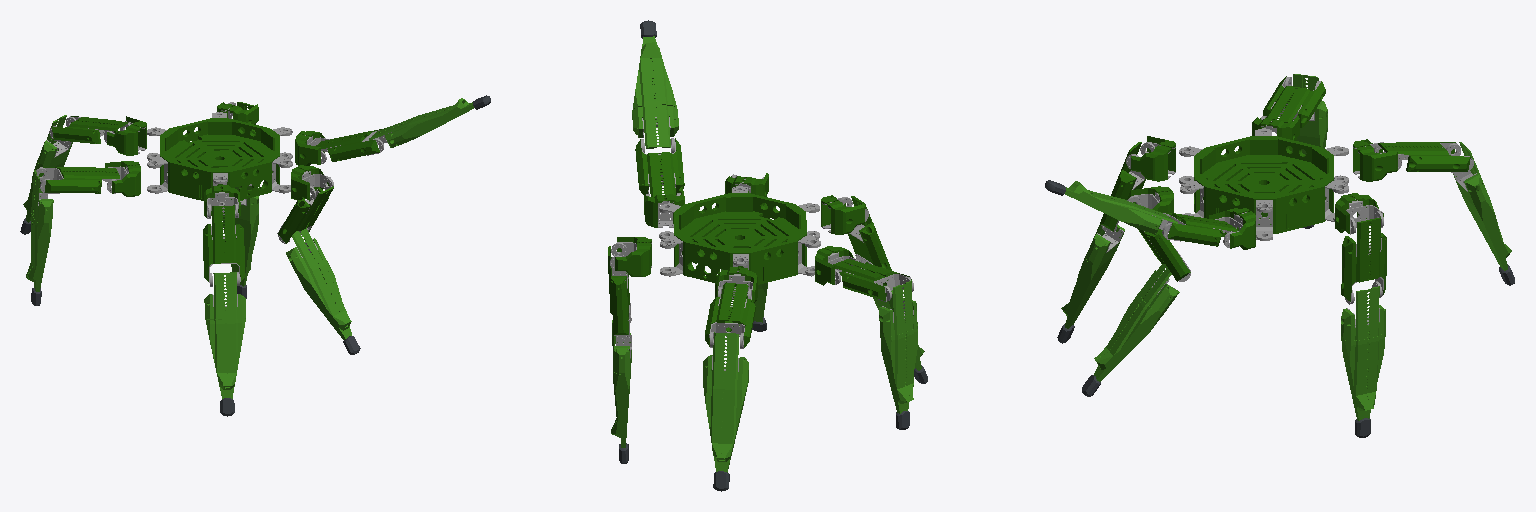
--- Render facts (derived) ---
Views: 3 orthographic renders of the robot side by side, from view 1: azimuth 30°, elevation 25°; view 2: azimuth 150°, elevation 25°; view 3: azimuth 270°, elevation 25°.
Robot: [local-path]\OneDrive\Desktop\ros\hexapod — 1 links, 0 joints (none); root link body; default pose: every joint at zero.
Links seen in each view (by area): view 1: body; view 2: body; view 3: body.
Link boxes in pixels (<box>): body: <box>20,95,490,416</box>; body: <box>608,20,927,491</box>; body: <box>1045,74,1514,437</box>.
Size in the robot's own frame: 0.8541 by 0.8418 by 0.6299 metres.
109 mesh visuals loaded from 11 distinct referenced files (10 binary STL); not drawn: 18 (reference not matched to a file when rendering).

URDF robot description ([local-path]\OneDrive\Desktop\ros\hexapod):
<?xml version="1.0" ?>
<!-- Generated using onshape-to-robot -->
<!-- Onshape https://cad.onshape.com/documents/026f9a33ba6a25a983a9d639/w/b83e0182bd0a887a03df3198/e/e49783848224d44e064e4a49 -->
<robot name="[local-path]\OneDrive\Desktop\ros\hexapod">
  <!-- Link body -->
  <link name="body">
    <inertial>
      <origin xyz="-0.00661516 -0.0927086 -0.111925" rpy="0 0 0"/>
      <mass value="9.75047"/>
      <inertia ixx="0.451212" ixy="0.0953495" ixz="-0.0258765" iyy="0.439416" iyz="0.00598595" izz="0.720981"/>
    </inertial>
    <!-- Part body -->
    <visual>
      <origin xyz="0.00533339 -0.0820554 -0.0654202" rpy="-8.67362e-19 1.39054e-18 0.00638268"/>
      <geometry>
        <mesh filename="package://meshes\body.stl"/>
      </geometry>
      <material name="body_material">
        <color rgba="0.196078 0.439216 0.0784314 1"/>
      </material>
    </visual>
    <collision>
      <origin xyz="0.00533339 -0.0820554 -0.0654202" rpy="-8.67362e-19 1.39054e-18 0.00638268"/>
      <geometry>
        <mesh filename="package://meshes\body.stl"/>
      </geometry>
    </collision>
    <!-- Part weight_beam -->
    <visual>
      <origin xyz="0.312149 -0.297368 0.0109092" rpy="2.09893 3.07747e-15 -2.54303"/>
      <geometry>
        <mesh filename="package://meshes\weight_beam.stl"/>
      </geometry>
      <material name="weight_beam_material">
        <color rgba="0.917647 0.917647 0.917647 1"/>
      </material>
    </visual>
    <collision>
      <origin xyz="0.312149 -0.297368 0.0109092" rpy="2.09893 3.07747e-15 -2.54303"/>
      <geometry>
        <mesh filename="package://meshes\weight_beam.stl"/>
      </geometry>
    </collision>
    <!-- Part hip -->
    <visual>
      <origin xyz="0.195519 -0.128552 -0.0388035" rpy="-4.01447e-15 3.05508e-15 2.16936"/>
      <geometry>
        <mesh filename="package://meshes\hip.stl"/>
      </geometry>
      <material name="hip_material">
        <color rgba="0.196078 0.439216 0.0784314 1"/>
      </material>
    </visual>
    <collision>
      <origin xyz="0.195519 -0.128552 -0.0388035" rpy="-4.01447e-15 3.05508e-15 2.16936"/>
      <geometry>
        <mesh filename="package://meshes\hip.stl"/>
      </geometry>
    </collision>
    <!-- Part rubber_foot -->
    <visual>
      <origin xyz="0.311905 -0.297011 0.0106572" rpy="-2.09893 -3.90449e-15 0.598559"/>
      <geometry>
        <mesh filename="package://meshes\rubber_foot.stl"/>
      </geometry>
      <material name="rubber_foot_material">
        <color rgba="0.262745 0.282353 0.301961 1"/>
      </material>
    </visual>
    <collision>
      <origin xyz="0.311905 -0.297011 0.0106572" rpy="-2.09893 -3.90449e-15 0.598559"/>
      <geometry>
        <mesh filename="package://meshes\rubber_foot.stl"/>
      </geometry>
    </collision>
    <!-- Part lower_foot -->
    <visual>
      <origin xyz="0.312149 -0.297368 0.0109092" rpy="-2.09893 -3.92188e-15 0.598559"/>
      <geometry>
        <mesh filename="package://meshes\lower_foot.stl"/>
      </geometry>
      <material name="lower_foot_material">
        <color rgba="0.282353 0.54902 0.160784 1"/>
      </material>
    </visual>
    <collision>
      <origin xyz="0.312149 -0.297368 0.0109092" rpy="-2.09893 -3.92188e-15 0.598559"/>
      <geometry>
        <mesh filename="package://meshes\lower_foot.stl"/>
      </geometry>
    </collision>
    <!-- Part upper_foot -->
    <visual>
      <origin xyz="0.312291 -0.297576 0.0104773" rpy="-2.09893 -3.79241e-15 0.598559"/>
      <geometry>
        <mesh filename="package://meshes\upper_foot.stl"/>
      </geometry>
      <material name="upper_foot_material">
        <color rgba="0.282353 0.54902 0.160784 1"/>
      </material>
    </visual>
    <collision>
      <origin xyz="0.312291 -0.297576 0.0104773" rpy="-2.09893 -3.79241e-15 0.598559"/>
      <geometry>
        <mesh filename="package://meshes\upper_foot.stl"/>
      </geometry>
    </collision>
    <!-- Part tie -->
    <visual>
      <origin xyz="0.230092 -0.178148 -0.0543943" rpy="1.1826 -4.18187e-15 0.598559"/>
      <geometry>
        <mesh filename="package://meshes\tie.stl"/>
      </geometry>
      <material name="tie_material">
        <color rgba="0.196078 0.439216 0.0784314 1"/>
      </material>
    </visual>
    <collision>
      <origin xyz="0.230092 -0.178148 -0.0543943" rpy="1.1826 -4.18187e-15 0.598559"/>
      <geometry>
        <mesh filename="package://meshes\tie.stl"/>
      </geometry>
    </collision>
    <!-- Part weight_beam_2 -->
    <visual>
      <origin xyz="-0.379269 -0.0109502 -0.0947067" rpy="0.0611214 3.67164e-16 1.25779"/>
      <geometry>
        <mesh filename="package://meshes\weight_beam.stl"/>
      </geometry>
      <material name="weight_beam_2_material">
        <color rgba="0.917647 0.917647 0.917647 1"/>
      </material>
    </visual>
    <collision>
      <origin xyz="-0.379269 -0.0109502 -0.0947067" rpy="0.0611214 3.67164e-16 1.25779"/>
      <geometry>
        <mesh filename="package://meshes\weight_beam.stl"/>
      </geometry>
    </collision>
    <!-- Part hip_2 -->
    <visual>
      <origin xyz="-0.20716 -0.0653569 -0.0388035" rpy="3.78236e-16 -1.73289e-15 -0.313011"/>
      <geometry>
        <mesh filename="package://meshes\hip.stl"/>
      </geometry>
      <material name="hip_2_material">
        <color rgba="0.196078 0.439216 0.0784314 1"/>
      </material>
    </visual>
    <collision>
      <origin xyz="-0.20716 -0.0653569 -0.0388035" rpy="3.78236e-16 -1.73289e-15 -0.313011"/>
      <geometry>
        <mesh filename="package://meshes\hip.stl"/>
      </geometry>
    </collision>
    <!-- Part rubber_foot_2 -->
    <visual>
      <origin xyz="-0.37924 -0.0109596 -0.0942076" rpy="-0.0611214 -7.98869e-16 -1.88381"/>
      <geometry>
        <mesh filename="package://meshes\rubber_foot.stl"/>
      </geometry>
      <material name="rubber_foot_2_material">
        <color rgba="0.262745 0.282353 0.301961 1"/>
      </material>
    </visual>
    <collision>
      <origin xyz="-0.37924 -0.0109596 -0.0942076" rpy="-0.0611214 -7.98869e-16 -1.88381"/>
      <geometry>
        <mesh filename="package://meshes\rubber_foot.stl"/>
      </geometry>
    </collision>
    <!-- Part lower_foot_2 -->
    <visual>
      <origin xyz="-0.379269 -0.0109502 -0.0947067" rpy="-0.0611214 -3.18593e-16 -1.88381"/>
      <geometry>
        <mesh filename="package://meshes\lower_foot.stl"/>
      </geometry>
      <material name="lower_foot_2_material">
        <color rgba="0.282353 0.54902 0.160784 1"/>
      </material>
    </visual>
    <collision>
      <origin xyz="-0.379269 -0.0109502 -0.0947067" rpy="-0.0611214 -3.18593e-16 -1.88381"/>
      <geometry>
        <mesh filename="package://meshes\lower_foot.stl"/>
      </geometry>
    </collision>
    <!-- Part upper_foot_2 -->
    <visual>
      <origin xyz="-0.378794 -0.0111038 -0.0947373" rpy="-0.0611214 -1.21332e-15 -1.88381"/>
      <geometry>
        <mesh filename="package://meshes\upper_foot.stl"/>
      </geometry>
      <material name="upper_foot_2_material">
        <color rgba="0.282353 0.54902 0.160784 1"/>
      </material>
    </visual>
    <collision>
      <origin xyz="-0.378794 -0.0111038 -0.0947373" rpy="-0.0611214 -1.21332e-15 -1.88381"/>
      <geometry>
        <mesh filename="package://meshes\upper_foot.stl"/>
      </geometry>
    </collision>
    <!-- Part tie_2 -->
    <visual>
      <origin xyz="-0.266654 -0.0467498 -0.0617749" rpy="1.46044 1.81976e-16 -1.88381"/>
      <geometry>
        <mesh filename="package://meshes\tie.stl"/>
      </geometry>
      <material name="tie_2_material">
        <color rgba="0.196078 0.439216 0.0784314 1"/>
      </material>
    </visual>
    <collision>
      <origin xyz="-0.266654 -0.0467498 -0.0617749" rpy="1.46044 1.81976e-16 -1.88381"/>
      <geometry>
        <mesh filename="package://meshes\tie.stl"/>
      </geometry>
    </collision>
    <!-- Part weight_beam_3 -->
    <visual>
      <origin xyz="-0.174501 0.281658 -0.133669" rpy="0.354802 -9.98125e-16 0.409318"/>
      <geometry>
        <mesh filename="package://meshes\weight_beam.stl"/>
      </geometry>
      <material name="weight_beam_3_material">
        <color rgba="0.917647 0.917647 0.917647 1"/>
      </material>
    </visual>
    <collision>
      <origin xyz="-0.174501 0.281658 -0.133669" rpy="0.354802 -9.98125e-16 0.409318"/>
      <geometry>
        <mesh filename="package://meshes\weight_beam.stl"/>
      </geometry>
    </collision>
    <!-- Part hip_3 -->
    <visual>
      <origin xyz="-0.0973166 0.106839 -0.0388035" rpy="-2.5368e-16 5.69282e-16 -1.16148"/>
      <geometry>
        <mesh filename="package://meshes\hip.stl"/>
      </geometry>
      <material name="hip_3_material">
        <color rgba="0.196078 0.439216 0.0784314 1"/>
      </material>
    </visual>
    <collision>
      <origin xyz="-0.0973166 0.106839 -0.0388035" rpy="-2.5368e-16 5.69282e-16 -1.16148"/>
      <geometry>
        <mesh filename="package://meshes\hip.stl"/>
      </geometry>
    </collision>
    <!-- Part rubber_foot_3 -->
    <visual>
      <origin xyz="-0.174432 0.281499 -0.133201" rpy="-0.354802 -1.05578e-15 -2.73227"/>
      <geometry>
        <mesh filename="package://meshes\rubber_foot.stl"/>
      </geometry>
      <material name="rubber_foot_3_material">
        <color rgba="0.262745 0.282353 0.301961 1"/>
      </material>
    </visual>
    <collision>
      <origin xyz="-0.174432 0.281499 -0.133201" rpy="-0.354802 -1.05578e-15 -2.73227"/>
      <geometry>
        <mesh filename="package://meshes\rubber_foot.stl"/>
      </geometry>
    </collision>
    <!-- Part lower_foot_3 -->
    <visual>
      <origin xyz="-0.174501 0.281658 -0.133669" rpy="-0.354802 1.00864e-15 -2.73227"/>
      <geometry>
        <mesh filename="package://meshes\lower_foot.stl"/>
      </geometry>
      <material name="lower_foot_3_material">
        <color rgba="0.282353 0.54902 0.160784 1"/>
      </material>
    </visual>
    <collision>
      <origin xyz="-0.174501 0.281658 -0.133669" rpy="-0.354802 1.00864e-15 -2.73227"/>
      <geometry>
        <mesh filename="package://meshes\lower_foot.stl"/>
      </geometry>
    </collision>
    <!-- Part upper_foot_3 -->
    <visual>
      <origin xyz="-0.174315 0.281228 -0.133843" rpy="-0.354802 1.01268e-15 -2.73227"/>
      <geometry>
        <mesh filename="package://meshes\upper_foot.stl"/>
      </geometry>
      <material name="upper_foot_3_material">
        <color rgba="0.282353 0.54902 0.160784 1"/>
      </material>
    </visual>
    <collision>
      <origin xyz="-0.174315 0.281228 -0.133843" rpy="-0.354802 1.01268e-15 -2.73227"/>
      <geometry>
        <mesh filename="package://meshes\upper_foot.stl"/>
      </geometry>
    </collision>
    <!-- Part tie_3 -->
    <visual>
      <origin xyz="-0.122569 0.163499 -0.0698684" rpy="1.75603 9.20326e-16 -2.73227"/>
      <geometry>
        <mesh filename="package://meshes\tie.stl"/>
      </geometry>
      <material name="tie_3_material">
        <color rgba="0.196078 0.439216 0.0784314 1"/>
      </material>
    </visual>
    <collision>
      <origin xyz="-0.122569 0.163499 -0.0698684" rpy="1.75603 9.20326e-16 -2.73227"/>
      <geometry>
        <mesh filename="package://meshes\tie.stl"/>
      </geometry>
    </collision>
    <!-- Part weight_beam_4 -->
    <visual>
      <origin xyz="0.101325 -0.263107 -0.221918" rpy="0.655974 7.69288e-15 -2.82072"/>
      <geometry>
        <mesh filename="package://meshes\weight_beam.stl"/>
      </geometry>
      <material name="weight_beam_4_material">
        <color rgba="0.917647 0.917647 0.917647 1"/>
      </material>
    </visual>
    <collision>
      <origin xyz="0.101325 -0.263107 -0.221918" rpy="0.655974 7.69288e-15 -2.82072"/>
      <geometry>
        <mesh filename="package://meshes\weight_beam.stl"/>
      </geometry>
    </collision>
    <!-- Part hip_4 -->
    <visual>
      <origin xyz="0.103235 -0.272765 -0.0388035" rpy="-2.18492e-16 -1.54453e-15 1.89167"/>
      <geometry>
        <mesh filename="package://meshes\hip.stl"/>
      </geometry>
      <material name="hip_4_material">
        <color rgba="0.196078 0.439216 0.0784314 1"/>
      </material>
    </visual>
    <collision>
      <origin xyz="0.103235 -0.272765 -0.0388035" rpy="-2.18492e-16 -1.54453e-15 1.89167"/>
      <geometry>
        <mesh filename="package://meshes\hip.stl"/>
      </geometry>
    </collision>
    <!-- Part rubber_foot_4 -->
    <visual>
      <origin xyz="0.101228 -0.262818 -0.221522" rpy="-0.655974 -3.22976e-15 0.320876"/>
      <geometry>
        <mesh filename="package://meshes\rubber_foot.stl"/>
      </geometry>
      <material name="rubber_foot_4_material">
        <color rgba="0.262745 0.282353 0.301961 1"/>
      </material>
    </visual>
    <collision>
      <origin xyz="0.101228 -0.262818 -0.221522" rpy="-0.655974 -3.22976e-15 0.320876"/>
      <geometry>
        <mesh filename="package://meshes\rubber_foot.stl"/>
      </geometry>
    </collision>
    <!-- Part lower_foot_4 -->
    <visual>
      <origin xyz="0.101325 -0.263107 -0.221918" rpy="-0.655974 -3.20171e-15 0.320876"/>
      <geometry>
        <mesh filename="package://meshes\lower_foot.stl"/>
      </geometry>
      <material name="lower_foot_4_material">
        <color rgba="0.282353 0.54902 0.160784 1"/>
      </material>
    </visual>
    <collision>
      <origin xyz="0.101325 -0.263107 -0.221918" rpy="-0.655974 -3.20171e-15 0.320876"/>
      <geometry>
        <mesh filename="package://meshes\lower_foot.stl"/>
      </geometry>
    </collision>
    <!-- Part upper_foot_4 -->
    <visual>
      <origin xyz="0.1012 -0.262731 -0.222223" rpy="-0.655974 -4.51227e-15 0.320876"/>
      <geometry>
        <mesh filename="package://meshes\upper_foot.stl"/>
      </geometry>
      <material name="upper_foot_4_material">
        <color rgba="0.282353 0.54902 0.160784 1"/>
      </material>
    </visual>
    <collision>
      <origin xyz="0.1012 -0.262731 -0.222223" rpy="-0.655974 -4.51227e-15 0.320876"/>
      <geometry>
        <mesh filename="package://meshes\upper_foot.stl"/>
      </geometry>
    </collision>
    <!-- Part tie_4 -->
    <visual>
      <origin xyz="0.110522 -0.292736 -0.0886192" rpy="-2.61799 4.94562e-16 0.320876"/>
      <geometry>
        <mesh filename="package://meshes\tie.stl"/>
      </geometry>
      <material name="tie_4_material">
        <color rgba="0.196078 0.439216 0.0784314 1"/>
      </material>
    </visual>
    <collision>
      <origin xyz="0.110522 -0.292736 -0.0886192" rpy="-2.61799 4.94562e-16 0.320876"/>
      <geometry>
        <mesh filename="package://meshes\tie.stl"/>
      </geometry>
    </collision>
    <!-- Part weight_beam_5 -->
    <visual>
      <origin xyz="0.158204 0.0956212 -0.251352" rpy="-0.0116834 -9.12958e-16 -1.08905"/>
      <geometry>
        <mesh filename="package://meshes\weight_beam.stl"/>
      </geometry>
      <material name="weight_beam_5_material">
        <color rgba="0.917647 0.917647 0.917647 1"/>
      </material>
    </visual>
    <collision>
      <origin xyz="0.158204 0.0956212 -0.251352" rpy="-0.0116834 -9.12958e-16 -1.08905"/>
      <geometry>
        <mesh filename="package://meshes\weight_beam.stl"/>
      </geometry>
    </collision>
    <!-- Part hip_5 -->
    <visual>
      <origin xyz="0.134311 0.0817372 -0.0388035" rpy="1.22414e-15 -6.53567e-15 -2.65985"/>
      <geometry>
        <mesh filename="package://meshes\hip.stl"/>
      </geometry>
      <material name="hip_5_material">
        <color rgba="0.196078 0.439216 0.0784314 1"/>
      </material>
    </visual>
    <collision>
      <origin xyz="0.134311 0.0817372 -0.0388035" rpy="1.22414e-15 -6.53567e-15 -2.65985"/>
      <geometry>
        <mesh filename="package://meshes\hip.stl"/>
      </geometry>
    </collision>
    <!-- Part rubber_foot_5 -->
    <visual>
      <origin xyz="0.158209 0.0956239 -0.250852" rpy="0.0116834 8.73014e-16 2.05254"/>
      <geometry>
        <mesh filename="package://meshes\rubber_foot.stl"/>
      </geometry>
      <material name="rubber_foot_5_material">
        <color rgba="0.262745 0.282353 0.301961 1"/>
      </material>
    </visual>
    <collision>
      <origin xyz="0.158209 0.0956239 -0.250852" rpy="0.0116834 8.73014e-16 2.05254"/>
      <geometry>
        <mesh filename="package://meshes\rubber_foot.stl"/>
      </geometry>
    </collision>
    <!-- Part lower_foot_5 -->
    <visual>
      <origin xyz="0.158204 0.0956212 -0.251352" rpy="0.0116834 8.78193e-16 2.05254"/>
      <geometry>
        <mesh filename="package://meshes\lower_foot.stl"/>
      </geometry>
      <material name="lower_foot_5_material">
        <color rgba="0.282353 0.54902 0.160784 1"/>
      </material>
    </visual>
    <collision>
      <origin xyz="0.158204 0.0956212 -0.251352" rpy="0.0116834 8.78193e-16 2.05254"/>
      <geometry>
        <mesh filename="package://meshes\lower_foot.stl"/>
      </geometry>
    </collision>
    <!-- Part upper_foot_5 -->
    <visual>
      <origin xyz="0.157761 0.0953896 -0.251346" rpy="0.0116834 8.60928e-16 2.05254"/>
      <geometry>
        <mesh filename="package://meshes\upper_foot.stl"/>
      </geometry>
      <material name="upper_foot_5_material">
        <color rgba="0.282353 0.54902 0.160784 1"/>
      </material>
    </visual>
    <collision>
      <origin xyz="0.157761 0.0953896 -0.251346" rpy="0.0116834 8.60928e-16 2.05254"/>
      <geometry>
        <mesh filename="package://meshes\upper_foot.stl"/>
      </geometry>
    </collision>
    <!-- Part tie_5 -->
    <visual>
      <origin xyz="0.163951 0.0979298 -0.092276" rpy="-3.09682 1.80307e-15 2.05254"/>
      <geometry>
        <mesh filename="package://meshes\tie.stl"/>
      </geometry>
      <material name="tie_5_material">
        <color rgba="0.196078 0.439216 0.0784314 1"/>
      </material>
    </visual>
    <collision>
      <origin xyz="0.163951 0.0979298 -0.092276" rpy="-3.09682 1.80307e-15 2.05254"/>
      <geometry>
        <mesh filename="package://meshes\tie.stl"/>
      </geometry>
    </collision>
    <!-- Part weight_beam_6 -->
    <visual>
      <origin xyz="-0.143537 -0.362079 -0.239097" rpy="0.387011 -2.26938e-16 2.6735"/>
      <geometry>
        <mesh filename="package://meshes\weight_beam.stl"/>
      </geometry>
      <material name="weight_beam_6_material">
        <color rgba="0.917647 0.917647 0.917647 1"/>
      </material>
    </visual>
    <collision>
      <origin xyz="-0.143537 -0.362079 -0.239097" rpy="0.387011 -2.26938e-16 2.6735"/>
      <geometry>
        <mesh filename="package://meshes\weight_beam.stl"/>
      </geometry>
    </collision>
    <!-- Part hip_6 -->
    <visual>
      <origin xyz="-0.098631 -0.270522 -0.0388035" rpy="1.71172e-15 -7.18042e-16 1.10271"/>
      <geometry>
        <mesh filename="package://meshes\hip.stl"/>
      </geometry>
      <material name="hip_6_material">
        <color rgba="0.196078 0.439216 0.0784314 1"/>
      </material>
    </visual>
    <collision>
      <origin xyz="-0.098631 -0.270522 -0.0388035" rpy="1.71172e-15 -7.18042e-16 1.10271"/>
      <geometry>
        <mesh filename="package://meshes\hip.stl"/>
      </geometry>
    </collision>
    <!-- Part rubber_foot_6 -->
    <visual>
      <origin xyz="-0.143452 -0.36191 -0.238634" rpy="-0.387011 3.69211e-16 -0.468089"/>
      <geometry>
        <mesh filename="package://meshes\rubber_foot.stl"/>
      </geometry>
      <material name="rubber_foot_6_material">
        <color rgba="0.262745 0.282353 0.301961 1"/>
      </material>
    </visual>
    <collision>
      <origin xyz="-0.143452 -0.36191 -0.238634" rpy="-0.387011 3.69211e-16 -0.468089"/>
      <geometry>
        <mesh filename="package://meshes\rubber_foot.stl"/>
      </geometry>
    </collision>
    <!-- Part lower_foot_6 -->
    <visual>
      <origin xyz="-0.143537 -0.362079 -0.239097" rpy="-0.387011 2.89777e-16 -0.468089"/>
      <geometry>
        <mesh filename="package://meshes\lower_foot.stl"/>
      </geometry>
      <material name="lower_foot_6_material">
        <color rgba="0.282353 0.54902 0.160784 1"/>
      </material>
    </visual>
    <collision>
      <origin xyz="-0.143537 -0.362079 -0.239097" rpy="-0.387011 2.89777e-16 -0.468089"/>
      <geometry>
        <mesh filename="package://meshes\lower_foot.stl"/>
      </geometry>
    </collision>
    <!-- Part upper_foot_6 -->
    <visual>
      <origin xyz="-0.143328 -0.361665 -0.239285" rpy="-0.387011 3.85282e-16 -0.468089"/>
      <geometry>
        <mesh filename="package://meshes\upper_foot.stl"/>
      </geometry>
      <material name="upper_foot_6_material">
        <color rgba="0.282353 0.54902 0.160784 1"/>
      </material>
    </visual>
    <collision>
      <origin xyz="-0.143328 -0.361665 -0.239285" rpy="-0.387011 3.85282e-16 -0.468089"/>
      <geometry>
        <mesh filename="package://meshes\upper_foot.stl"/>
      </geometry>
    </collision>
    <!-- Part tie_6 -->
    <visual>
      <origin xyz="-0.11829 -0.310774 -0.0905009" rpy="2.77751 1.85453e-15 -0.468089"/>
      <geometry>
        <mesh filename="package://meshes\tie.stl"/>
      </geometry>
      <material name="tie_6_material">
        <color rgba="0.196078 0.439216 0.0784314 1"/>
      </material>
    </visual>
    <collision>
      <origin xyz="-0.11829 -0.310774 -0.0905009" rpy="2.77751 1.85453e-15 -0.468089"/>
      <geometry>
        <mesh filename="package://meshes\tie.stl"/>
      </geometry>
    </collision>
    <!-- Part mobile_bracket -->
    <visual>
      <origin xyz="0.272134 -0.239791 -0.0255013" rpy="2.7534 -4.36739e-15 0.598559"/>
      <geometry>
        <mesh filename="package://meshes\mobile_bracket.stl"/>
      </geometry>
      <material name="mobile_bracket_material">
        <color rgba="0.647059 0.647059 0.647059 1"/>
      </material>
    </visual>
    <collision>
      <origin xyz="0.272134 -0.239791 -0.0255013" rpy="2.7534 -4.36739e-15 0.598559"/>
      <geometry>
        <mesh filename="package://meshes\mobile_bracket.stl"/>
      </geometry>
    </collision>
    <!-- Part part_1 -->
    <visual>
      <origin xyz="0.299015 -0.278111 -0.00222142" rpy="1.5708 0.528134 2.16936"/>
      <geometry>
        <mesh filename="package://meshes\part_1.stl"/>
      </geometry>
      <material name="part_1_material">
        <color rgba="0.109804 0.109804 0.105882 1"/>
      </material>
    </visual>
    <collision>
      <origin xyz="0.299015 -0.278111 -0.00222142" rpy="1.5708 0.528134 2.16936"/>
      <geometry>
        <mesh filename="package://meshes\part_1.stl"/>
      </geometry>
    </collision>
    <!-- Part servo_wheel -->
    <visual>
      <origin xyz="0.314029 -0.250431 -0.0122531" rpy="1.5708 0.388194 2.16936"/>
      <geometry>
        <mesh filename="package://meshes\servo_wheel.stl"/>
      </geometry>
      <material name="servo_wheel_material">
        <color rgba="0.647059 0.647059 0.647059 1"/>
      </material>
    </visual>
    <collision>
      <origin xyz="0.314029 -0.250431 -0.0122531" rpy="1.5708 0.388194 2.16936"/>
      <geometry>
        <mesh filename="package://meshes\servo_wheel.stl"/>
      </geometry>
    </collision>
    <!-- Part servo_wheel_2 -->
    <visual>
      <origin xyz="0.267352 -0.282266 -0.0122531" rpy="1.5708 0.388194 2.16936"/>
      <geometry>
        <mesh filename="package://meshes\servo_wheel.stl"/>
      </geometry>
      <material name="servo_wheel_2_material">
        <color rgba="0.647059 0.647059 0.647059 1"/>
      </material>
    </visual>
    <collision>
      <origin xyz="0.267352 -0.282266 -0.0122531" rpy="1.5708 0.388194 2.16936"/>
      <geometry>
        <mesh filename="package://meshes\servo_wheel.stl"/>
      </geometry>
    </collision>
    <!-- Part fixed_bracket -->
    <visual>
      <origin xyz="0.318881 -0.307239 0.0167224" rpy="-2.61346 6.73986e-15 -2.54303"/>
      <geometry>
        <mesh filename="package://meshes\fixed_bracket.stl"/>
      </geometry>
      <material name="fixed_bracket_material">
        <color rgba="0.647059 0.647059 0.647059 1"/>
      </material>
    </visual>
    <collision>
      <origin xyz="0.318881 -0.307239 0.0167224" rpy="-2.61346 6.73986e-15 -2.54303"/>
      <geometry>
        <mesh filename="package://meshes\fixed_bracket.stl"/>
      </geometry>
    </collision>
    <!-- Part mobile_bracket_2 -->
    <visual>
      <origin xyz="0.128121 -0.0812717 -0.0654202" rpy="-1.56441 -1.5708 0"/>
      <geometry>
        <mesh filename="package://meshes\mobile_bracket.stl"/>
      </geometry>
      <material name="mobile_bracket_2_material">
        <color rgba="0.647059 0.647059 0.647059 1"/>
      </material>
    </visual>
    <collision>
      <origin xyz="0.128121 -0.0812717 -0.0654202" rpy="-1.56441 -1.5708 0"/>
      <geometry>
        <mesh filename="package://meshes\mobile_bracket.stl"/>
      </geometry>
    </collision>
    <!-- Part part_1_2 -->
    <visual>
      <origin xyz="0.171821 -0.0962972 -0.0648035" rpy="-3.9899e-15 2.74977e-15 2.16936"/>
      <geometry>
        <mesh filename="package://meshes\part_1.stl"/>
      </geometry>
      <material name="part_1_2_material">
        <color rgba="0.109804 0.109804 0.105882 1"/>
      </material>
    </visual>
    <collision>
      <origin xyz="0.171821 -0.0962972 -0.0648035" rpy="-3.9899e-15 2.74977e-15 2.16936"/>
      <geometry>
        <mesh filename="package://meshes\part_1.stl"/>
      </geometry>
    </collision>
    <!-- Part servo_wheel_3 -->
    <visual>
      <origin xyz="0.163121 -0.0810483 -0.0368035" rpy="4.17938e-15 -4.45777e-16 -3.13521"/>
      <geometry>
        <mesh filename="package://meshes\servo_wheel.stl"/>
      </geometry>
      <material name="servo_wheel_3_material">
        <color rgba="0.647059 0.647059 0.647059 1"/>
      </material>
    </visual>
    <collision>
      <origin xyz="0.163121 -0.0810483 -0.0368035" rpy="4.17938e-15 -4.45777e-16 -3.13521"/>
      <geometry>
        <mesh filename="package://meshes\servo_wheel.stl"/>
      </geometry>
    </collision>
    <!-- Part servo_wheel_4 -->
    <visual>
      <origin xyz="0.163121 -0.0810483 -0.0933035" rpy="4.99906e-15 -3.2713e-16 -3.13521"/>
      <geometry>
        <mesh filename="package://meshes\servo_wheel.stl"/>
      </geometry>
      <material name="servo_wheel_4_material">
        <color rgba="0.647059 0.647059 0.647059 1"/>
      </material>
    </visual>
    <collision>
      <origin xyz="0.163121 -0.0810483 -0.0933035" rpy="4.99906e-15 -3.2713e-16 -3.13521"/>
      <geometry>
        <mesh filename="package://meshes\servo_wheel.stl"/>
      </geometry>
    </collision>
    <!-- Part fixed_bracket_2 -->
    <visual>
      <origin xyz="0.195519 -0.128552 -0.0648035" rpy="-0.598559 1.5708 0"/>
      <geometry>
        <mesh filename="package://meshes\fixed_bracket.stl"/>
      </geometry>
      <material name="fixed_bracket_2_material">
        <color rgba="0.647059 0.647059 0.647059 1"/>
      </material>
    </visual>
    <collision>
      <origin xyz="0.195519 -0.128552 -0.0648035" rpy="-0.598559 1.5708 0"/>
      <geometry>
        <mesh filename="package://meshes\fixed_bracket.stl"/>
      </geometry>
    </collision>
    <!-- Part mobile_bracket_3 -->
    <visual>
      <origin xyz="0.195519 -0.128552 -0.0648035" rpy="3.14159 -4.15342e-15 0.598559"/>
      <geometry>
        <mesh filename="package://meshes\mobile_bracket.stl"/>
      </geometry>
      <material name="mobile_bracket_3_material">
        <color rgba="0.647059 0.647059 0.647059 1"/>
      </material>
    </visual>
    <collision>
      <origin xyz="0.195519 -0.128552 -0.0648035" rpy="3.14159 -4.15342e-15 0.598559"/>
      <geometry>
        <mesh filename="package://meshes\mobile_bracket.stl"/>
      </geometry>
    </collision>
    <!-- Part part_1_3 -->
    <visual>
      <origin xyz="0.224577 -0.170062 -0.0568795" rpy="1.5708 0.388194 2.16936"/>
      <geometry>
        <mesh filename="package://meshes\part_1.stl"/>
      </geometry>
      <material name="part_1_3_material">
        <color rgba="0.109804 0.109804 0.105882 1"/>
      </material>
    </visual>
    <collision>
      <origin xyz="0.224577 -0.170062 -0.0568795" rpy="1.5708 0.388194 2.16936"/>
      <geometry>
        <mesh filename="package://meshes\part_1.stl"/>
      </geometry>
    </collision>
    <!-- Part servo_wheel_5 -->
    <visual>
      <origin xyz="0.238882 -0.141343 -0.0648035" rpy="1.5708 1.72976e-15 2.16936"/>
      <geometry>
        <mesh filename="package://meshes\servo_wheel.stl"/>
      </geometry>
      <material name="servo_wheel_5_material">
        <color rgba="0.647059 0.647059 0.647059 1"/>
      </material>
    </visual>
    <collision>
      <origin xyz="0.238882 -0.141343 -0.0648035" rpy="1.5708 1.72976e-15 2.16936"/>
      <geometry>
        <mesh filename="package://meshes\servo_wheel.stl"/>
      </geometry>
    </collision>
    <!-- Part servo_wheel_6 -->
    <visual>
      <origin xyz="0.192204 -0.173178 -0.0648035" rpy="1.5708 2.64569e-15 2.16936"/>
      <geometry>
        <mesh filename="package://meshes\servo_wheel.stl"/>
      </geometry>
      <material name="servo_wheel_6_material">
        <color rgba="0.647059 0.647059 0.647059 1"/>
      </material>
    </visual>
    <collision>
      <origin xyz="0.192204 -0.173178 -0.0648035" rpy="1.5708 2.64569e-15 2.16936"/>
      <geometry>
        <mesh filename="package://meshes\servo_wheel.stl"/>
      </geometry>
    </collision>
    <!-- Part fixed_bracket_3 -->
    <visual>
      <origin xyz="0.245738 -0.201088 -0.0430388" rpy="-2.7534 4.11365e-15 -2.54303"/>
      <geometry>
        <mesh filename="package://meshes\fixed_bracket.stl"/>
      </geometry>
      <material name="fixed_bracket_3_material">
        <color rgba="0.647059 0.647059 0.647059 1"/>
      </material>
    </visual>
    <collision>
      <origin xyz="0.245738 -0.201088 -0.0430388" rpy="-2.7534 4.11365e-15 -2.54303"/>
      <geometry>
        <mesh filename="package://meshes\fixed_bracket.stl"/>
      </geometry>
    </collision>
    <!-- Part mobile_bracket_4 -->
    <visual>
      <origin xyz="-0.342461 -0.0222149 -0.0544551" rpy="3.03124 -1.91208e-16 -1.88381"/>
      <geometry>
        <mesh filename="package://meshes\mobile_bracket.stl"/>
      </geometry>
      <material name="mobile_bracket_4_material">
        <color rgba="0.647059 0.647059 0.647059 1"/>
      </material>
    </visual>
    <collision>
      <origin xyz="-0.342461 -0.0222149 -0.0544551" rpy="3.03124 -1.91208e-16 -1.88381"/>
      <geometry>
        <mesh filename="package://meshes\mobile_bracket.stl"/>
      </geometry>
    </collision>
    <!-- Part part_1_4 -->
    <visual>
      <origin xyz="-0.378098 -0.011329 -0.067982" rpy="1.5708 -1.50967 -0.313011"/>
      <geometry>
        <mesh filename="package://meshes\part_1.stl"/>
      </geometry>
      <material name="part_1_4_material">
        <color rgba="0.109804 0.109804 0.105882 1"/>
      </material>
    </visual>
    <collision>
      <origin xyz="-0.378098 -0.011329 -0.067982" rpy="1.5708 -1.50967 -0.313011"/>
      <geometry>
        <mesh filename="package://meshes\part_1.stl"/>
      </geometry>
    </collision>
    <!-- Part servo_wheel_7 -->
    <visual>
      <origin xyz="-0.38437 -0.0387293 -0.0506004" rpy="1.5708 0.110357 -0.313011"/>
      <geometry>
        <mesh filename="package://meshes\servo_wheel.stl"/>
      </geometry>
      <material name="servo_wheel_7_material">
        <color rgba="0.647059 0.647059 0.647059 1"/>
      </material>
    </visual>
    <collision>
      <origin xyz="-0.38437 -0.0387293 -0.0506004" rpy="1.5708 0.110357 -0.313011"/>
      <geometry>
        <mesh filename="package://meshes\servo_wheel.stl"/>
      </geometry>
    </collision>
    <!-- Part servo_wheel_8 -->
    <visual>
      <origin xyz="-0.366972 0.0150254 -0.0506004" rpy="1.5708 0.110357 -0.313011"/>
      <geometry>
        <mesh filename="package://meshes\servo_wheel.stl"/>
      </geometry>
      <material name="servo_wheel_8_material">
        <color rgba="0.647059 0.647059 0.647059 1"/>
      </material>
    </visual>
    <collision>
      <origin xyz="-0.366972 0.0150254 -0.0506004" rpy="1.5708 0.110357 -0.313011"/>
      <geometry>
        <mesh filename="package://meshes\servo_wheel.stl"/>
      </geometry>
    </collision>
    <!-- Part fixed_bracket_4 -->
    <visual>
      <origin xyz="-0.379089 -0.0110083 -0.107993" rpy="1.63192 2.32998e-15 1.25779"/>
      <geometry>
        <mesh filename="package://meshes\fixed_bracket.stl"/>
      </geometry>
      <material name="fixed_bracket_4_material">
        <color rgba="0.647059 0.647059 0.647059 1"/>
      </material>
    </visual>
    <collision>
      <origin xyz="-0.379089 -0.0110083 -0.107993" rpy="1.63192 2.32998e-15 1.25779"/>
      <geometry>
        <mesh filename="package://meshes\fixed_bracket.stl"/>
      </geometry>
    </collision>
    <!-- Part mobile_bracket_5 -->
    <visual>
      <origin xyz="-0.117455 -0.0828391 -0.0654202" rpy="1.57718 -1.5708 0"/>
      <geometry>
        <mesh filename="package://meshes\mobile_bracket.stl"/>
      </geometry>
      <material name="mobile_bracket_5_material">
        <color rgba="0.647059 0.647059 0.647059 1"/>
      </material>
    </visual>
    <collision>
      <origin xyz="-0.117455 -0.0828391 -0.0654202" rpy="1.57718 -1.5708 0"/>
      <geometry>
        <mesh filename="package://meshes\mobile_bracket.stl"/>
      </geometry>
    </collision>
    <!-- Part part_1_5 -->
    <visual>
      <origin xyz="-0.168671 -0.0763377 -0.0648035" rpy="2.45057e-16 -1.67738e-15 -0.313011"/>
      <geometry>
        <mesh filename="package://meshes\part_1.stl"/>
      </geometry>
      <material name="part_1_5_material">
        <color rgba="0.109804 0.109804 0.105882 1"/>
      </material>
    </visual>
    <collision>
      <origin xyz="-0.168671 -0.0763377 -0.0648035" rpy="2.45057e-16 -1.67738e-15 -0.313011"/>
      <geometry>
        <mesh filename="package://meshes\part_1.stl"/>
      </geometry>
    </collision>
    <!-- Part servo_wheel_9 -->
    <visual>
      <origin xyz="-0.152454 -0.0830625 -0.0368035" rpy="-1.19998e-15 -4.4416e-15 0.00638268"/>
      <geometry>
        <mesh filename="package://meshes\servo_wheel.stl"/>
      </geometry>
      <material name="servo_wheel_9_material">
        <color rgba="0.647059 0.647059 0.647059 1"/>
      </material>
    </visual>
    <collision>
      <origin xyz="-0.152454 -0.0830625 -0.0368035" rpy="-1.19998e-15 -4.4416e-15 0.00638268"/>
      <geometry>
        <mesh filename="package://meshes\servo_wheel.stl"/>
      </geometry>
    </collision>
    <!-- Part servo_wheel_10 -->
    <visual>
      <origin xyz="-0.152454 -0.0830625 -0.0933035" rpy="-7.32413e-16 -4.02714e-15 0.00638268"/>
      <geometry>
        <mesh filename="package://meshes\servo_wheel.stl"/>
      </geometry>
      <material name="servo_wheel_10_material">
        <color rgba="0.647059 0.647059 0.647059 1"/>
      </material>
    </visual>
    <collision>
      <origin xyz="-0.152454 -0.0830625 -0.0933035" rpy="-7.32413e-16 -4.02714e-15 0.00638268"/>
      <geometry>
        <mesh filename="package://meshes\servo_wheel.stl"/>
      </geometry>
    </collision>
    <!-- Part fixed_bracket_5 -->
    <visual>
      <origin xyz="-0.20716 -0.0653569 -0.0648035" rpy="1.88381 1.5708 0"/>
      <geometry>
        <mesh filename="package://meshes\fixed_bracket.stl"/>
      </geometry>
      <material name="fixed_bracket_5_material">
        <color rgba="0.647059 0.647059 0.647059 1"/>
      </material>
    </visual>
    <collision>
      <origin xyz="-0.20716 -0.0653569 -0.0648035" rpy="1.88381 1.5708 0"/>
      <geometry>
        <mesh filename="package://meshes\fixed_bracket.stl"/>
      </geometry>
    </collision>
    <!-- Part mobile_bracket_6 -->
    <visual>
      <origin xyz="-0.20716 -0.0653569 -0.0648035" rpy="-3.14159 2.66573e-16 -1.88381"/>
      <geometry>
        <mesh filename="package://meshes\mobile_bracket.stl"/>
      </geometry>
      <material name="mobile_bracket_6_material">
        <color rgba="0.647059 0.647059 0.647059 1"/>
      </material>
    </visual>
    <collision>
      <origin xyz="-0.20716 -0.0653569 -0.0648035" rpy="-3.14159 2.66573e-16 -1.88381"/>
      <geometry>
        <mesh filename="package://meshes\mobile_bracket.stl"/>
      </geometry>
    </collision>
    <!-- Part part_1_6 -->
    <visual>
      <origin xyz="-0.257051 -0.049858 -0.0614803" rpy="1.5708 0.110357 -0.313011"/>
      <geometry>
        <mesh filename="package://meshes\part_1.stl"/>
      </geometry>
      <material name="part_1_6_material">
        <color rgba="0.109804 0.109804 0.105882 1"/>
      </material>
    </visual>
    <collision>
      <origin xyz="-0.257051 -0.049858 -0.0614803" rpy="1.5708 0.110357 -0.313011"/>
      <geometry>
        <mesh filename="package://meshes\part_1.stl"/>
      </geometry>
    </collision>
    <!-- Part servo_wheel_11 -->
    <visual>
      <origin xyz="-0.249271 -0.0818058 -0.0648035" rpy="1.5708 -3.98004e-17 -0.313011"/>
      <geometry>
        <mesh filename="package://meshes\servo_wheel.stl"/>
      </geometry>
      <material name="servo_wheel_11_material">
        <color rgba="0.647059 0.647059 0.647059 1"/>
      </material>
    </visual>
    <collision>
      <origin xyz="-0.249271 -0.0818058 -0.0648035" rpy="1.5708 -3.98004e-17 -0.313011"/>
      <geometry>
        <mesh filename="package://meshes\servo_wheel.stl"/>
      </geometry>
    </collision>
    <!-- Part servo_wheel_12 -->
    <visual>
      <origin xyz="-0.231874 -0.028051 -0.0648035" rpy="1.5708 2.93267e-16 -0.313011"/>
      <geometry>
        <mesh filename="package://meshes\servo_wheel.stl"/>
      </geometry>
      <material name="servo_wheel_12_material">
        <color rgba="0.647059 0.647059 0.647059 1"/>
      </material>
    </visual>
    <collision>
      <origin xyz="-0.231874 -0.028051 -0.0648035" rpy="1.5708 2.93267e-16 -0.313011"/>
      <geometry>
        <mesh filename="package://meshes\servo_wheel.stl"/>
      </geometry>
    </collision>
    <!-- Part fixed_bracket_6 -->
    <visual>
      <origin xyz="-0.295023 -0.0375683 -0.0584709" rpy="-3.03124 -1.85426e-16 1.25779"/>
      <geometry>
        <mesh filename="package://meshes\fixed_bracket.stl"/>
      </geometry>
      <material name="fixed_bracket_6_material">
        <color rgba="0.647059 0.647059 0.647059 1"/>
      </material>
    </visual>
    <collision>
      <origin xyz="-0.295023 -0.0375683 -0.0584709" rpy="-3.03124 -1.85426e-16 1.25779"/>
      <geometry>
        <mesh filename="package://meshes\fixed_bracket.stl"/>
      </geometry>
    </collision>
    <!-- Part mobile_bracket_7 -->
    <visual>
      <origin xyz="-0.153753 0.235381 -0.0860767" rpy="-2.95636 -1.1288e-15 -2.73227"/>
      <geometry>
        <mesh filename="package://meshes\mobile_bracket.stl"/>
      </geometry>
      <material name="mobile_bracket_7_material">
        <color rgba="0.647059 0.647059 0.647059 1"/>
      </material>
    </visual>
    <collision>
      <origin xyz="-0.153753 0.235381 -0.0860767" rpy="-2.95636 -1.1288e-15 -2.73227"/>
      <geometry>
        <mesh filename="package://meshes\mobile_bracket.stl"/>
      </geometry>
    </collision>
    <!-- Part part_1_7 -->
    <visual>
      <origin xyz="-0.170954 0.273481 -0.108445" rpy="1.5708 -1.21599 -1.16148"/>
      <geometry>
        <mesh filename="package://meshes\part_1.stl"/>
      </geometry>
      <material name="part_1_7_material">
        <color rgba="0.109804 0.109804 0.105882 1"/>
      </material>
    </visual>
    <collision>
      <origin xyz="-0.170954 0.273481 -0.108445" rpy="1.5708 -1.21599 -1.16148"/>
      <geometry>
        <mesh filename="package://meshes\part_1.stl"/>
      </geometry>
    </collision>
    <!-- Part servo_wheel_13 -->
    <visual>
      <origin xyz="-0.193697 0.255552 -0.0925229" rpy="1.5708 -0.185233 -1.16148"/>
      <geometry>
        <mesh filename="package://meshes\servo_wheel.stl"/>
      </geometry>
      <material name="servo_wheel_13_material">
        <color rgba="0.647059 0.647059 0.647059 1"/>
      </material>
    </visual>
    <collision>
      <origin xyz="-0.193697 0.255552 -0.0925229" rpy="1.5708 -0.185233 -1.16148"/>
      <geometry>
        <mesh filename="package://meshes\servo_wheel.stl"/>
      </geometry>
    </collision>
    <!-- Part servo_wheel_14 -->
    <visual>
      <origin xyz="-0.141864 0.278038 -0.0925229" rpy="1.5708 -0.185233 -1.16148"/>
      <geometry>
        <mesh filename="package://meshes\servo_wheel.stl"/>
      </geometry>
      <material name="servo_wheel_14_material">
        <color rgba="0.647059 0.647059 0.647059 1"/>
      </material>
    </visual>
    <collision>
      <origin xyz="-0.141864 0.278038 -0.0925229" rpy="1.5708 -0.185233 -1.16148"/>
      <geometry>
        <mesh filename="package://meshes\servo_wheel.stl"/>
      </geometry>
    </collision>
    <!-- Part fixed_bracket_7 -->
    <visual>
      <origin xyz="-0.17596 0.285021 -0.146442" rpy="1.9256 -1.08869e-15 0.409318"/>
      <geometry>
        <mesh filename="package://meshes\fixed_bracket.stl"/>
      </geometry>
      <material name="fixed_bracket_7_material">
        <color rgba="0.647059 0.647059 0.647059 1"/>
      </material>
    </visual>
    <collision>
      <origin xyz="-0.17596 0.285021 -0.146442" rpy="1.9256 -1.08869e-15 0.409318"/>
      <geometry>
        <mesh filename="package://meshes\fixed_bracket.stl"/>
      </geometry>
    </collision>
    <!-- Part mobile_bracket_8 -->
    <visual>
      <origin xyz="-0.0567394 0.0238903 -0.0654202" rpy="0.529981 -1.5708 0"/>
      <geometry>
        <mesh filename="package://meshes\mobile_bracket.stl"/>
      </geometry>
      <material name="mobile_bracket_8_material">
        <color rgba="0.647059 0.647059 0.647059 1"/>
      </material>
    </visual>
    <collision>
      <origin xyz="-0.0567394 0.0238903 -0.0654202" rpy="0.529981 -1.5708 0"/>
      <geometry>
        <mesh filename="package://meshes\mobile_bracket.stl"/>
      </geometry>
    </collision>
    <!-- Part part_1_8 -->
    <visual>
      <origin xyz="-0.0801088 0.0707022 -0.0648035" rpy="-2.0201e-16 9.02349e-16 -1.16148"/>
      <geometry>
        <mesh filename="package://meshes\part_1.stl"/>
      </geometry>
      <material name="part_1_8_material">
        <color rgba="0.109804 0.109804 0.105882 1"/>
      </material>
    </visual>
    <collision>
      <origin xyz="-0.0801088 0.0707022 -0.0648035" rpy="-2.0201e-16 9.02349e-16 -1.16148"/>
      <geometry>
        <mesh filename="package://meshes\part_1.stl"/>
      </geometry>
    </collision>
    <!-- Part servo_wheel_15 -->
    <visual>
      <origin xyz="-0.0744325 0.0540889 -0.0368035" rpy="-3.43579e-15 5.94073e-15 -1.04081"/>
      <geometry>
        <mesh filename="package://meshes\servo_wheel.stl"/>
      </geometry>
      <material name="servo_wheel_15_material">
        <color rgba="0.647059 0.647059 0.647059 1"/>
      </material>
    </visual>
    <collision>
      <origin xyz="-0.0744325 0.0540889 -0.0368035" rpy="-3.43579e-15 5.94073e-15 -1.04081"/>
      <geometry>
        <mesh filename="package://meshes\servo_wheel.stl"/>
      </geometry>
    </collision>
    <!-- Part servo_wheel_16 -->
    <visual>
      <origin xyz="-0.0744325 0.0540889 -0.0933035" rpy="-3.81289e-15 -1.16821e-16 -1.04081"/>
      <geometry>
        <mesh filename="package://meshes\servo_wheel.stl"/>
      </geometry>
      <material name="servo_wheel_16_material">
        <color rgba="0.647059 0.647059 0.647059 1"/>
      </material>
    </visual>
    <collision>
      <origin xyz="-0.0744325 0.0540889 -0.0933035" rpy="-3.81289e-15 -1.16821e-16 -1.04081"/>
      <geometry>
        <mesh filename="package://meshes\servo_wheel.stl"/>
      </geometry>
    </collision>
    <!-- Part fixed_bracket_8 -->
    <visual>
      <origin xyz="-0.0973166 0.106839 -0.0648035" rpy="2.73227 1.5708 0"/>
      <geometry>
        <mesh filename="package://meshes\fixed_bracket.stl"/>
      </geometry>
      <material name="fixed_bracket_8_material">
        <color rgba="0.647059 0.647059 0.647059 1"/>
      </material>
    </visual>
    <collision>
      <origin xyz="-0.0973166 0.106839 -0.0648035" rpy="2.73227 1.5708 0"/>
      <geometry>
        <mesh filename="package://meshes\fixed_bracket.stl"/>
      </geometry>
    </collision>
    <!-- Part mobile_bracket_9 -->
    <visual>
      <origin xyz="-0.0973166 0.106839 -0.0648035" rpy="3.14159 -4.38016e-16 -2.73227"/>
      <geometry>
        <mesh filename="package://meshes\mobile_bracket.stl"/>
      </geometry>
      <material name="mobile_bracket_9_material">
        <color rgba="0.647059 0.647059 0.647059 1"/>
      </material>
    </visual>
    <collision>
      <origin xyz="-0.0973166 0.106839 -0.0648035" rpy="3.14159 -4.38016e-16 -2.73227"/>
      <geometry>
        <mesh filename="package://meshes\mobile_bracket.stl"/>
      </geometry>
    </collision>
    <!-- Part part_1_9 -->
    <visual>
      <origin xyz="-0.11876 0.154719 -0.0666462" rpy="1.5708 -0.185233 -1.16148"/>
      <geometry>
        <mesh filename="package://meshes\part_1.stl"/>
      </geometry>
      <material name="part_1_9_material">
        <color rgba="0.109804 0.109804 0.105882 1"/>
      </material>
    </visual>
    <collision>
      <origin xyz="-0.11876 0.154719 -0.0666462" rpy="1.5708 -0.185233 -1.16148"/>
      <geometry>
        <mesh filename="package://meshes\part_1.stl"/>
      </geometry>
    </collision>
    <!-- Part servo_wheel_17 -->
    <visual>
      <origin xyz="-0.137499 0.127559 -0.0648035" rpy="1.5708 9.02349e-16 -1.16148"/>
      <geometry>
        <mesh filename="package://meshes\servo_wheel.stl"/>
      </geometry>
      <material name="servo_wheel_17_material">
        <color rgba="0.647059 0.647059 0.647059 1"/>
      </material>
    </visual>
    <collision>
      <origin xyz="-0.137499 0.127559 -0.0648035" rpy="1.5708 9.02349e-16 -1.16148"/>
      <geometry>
        <mesh filename="package://meshes\servo_wheel.stl"/>
      </geometry>
    </collision>
    <!-- Part servo_wheel_18 -->
    <visual>
      <origin xyz="-0.0856661 0.150045 -0.0648035" rpy="1.5708 6.24793e-16 -1.16148"/>
      <geometry>
        <mesh filename="package://meshes\servo_wheel.stl"/>
      </geometry>
      <material name="servo_wheel_18_material">
        <color rgba="0.647059 0.647059 0.647059 1"/>
      </material>
    </visual>
    <collision>
      <origin xyz="-0.0856661 0.150045 -0.0648035" rpy="1.5708 6.24793e-16 -1.16148"/>
      <geometry>
        <mesh filename="package://meshes\servo_wheel.stl"/>
      </geometry>
    </collision>
    <!-- Part fixed_bracket_9 -->
    <visual>
      <origin xyz="-0.134304 0.19055 -0.0753936" rpy="2.95636 -9.69432e-16 0.409318"/>
      <geometry>
        <mesh filename="package://meshes\fixed_bracket.stl"/>
      </geometry>
      <material name="fixed_bracket_9_material">
        <color rgba="0.647059 0.647059 0.647059 1"/>
      </material>
    </visual>
    <collision>
      <origin xyz="-0.134304 0.19055 -0.0753936" rpy="2.95636 -9.69432e-16 0.409318"/>
      <geometry>
        <mesh filename="package://meshes\fixed_bracket.stl"/>
      </geometry>
    </collision>
    <!-- Part mobile_bracket_10 -->
    <visual>
      <origin xyz="0.0974965 -0.253545 -0.157151" rpy="-1.0472 2.44301e-16 0.320876"/>
      <geometry>
        <mesh filename="package://meshes\mobile_bracket.stl"/>
      </geometry>
      <material name="mobile_bracket_10_material">
        <color rgba="0.647059 0.647059 0.647059 1"/>
      </material>
    </visual>
    <collision>
      <origin xyz="0.0974965 -0.253545 -0.157151" rpy="-1.0472 2.44301e-16 0.320876"/>
      <geometry>
        <mesh filename="package://meshes\mobile_bracket.stl"/>
      </geometry>
    </collision>
    <!-- Part part_1_10 -->
    <visual>
      <origin xyz="0.0962798 -0.247928 -0.200473" rpy="1.5708 -0.914822 1.89167"/>
      <geometry>
        <mesh filename="package://meshes\part_1.stl"/>
      </geometry>
      <material name="part_1_10_material">
        <color rgba="0.109804 0.109804 0.105882 1"/>
      </material>
    </visual>
    <collision>
      <origin xyz="0.0962798 -0.247928 -0.200473" rpy="1.5708 -0.914822 1.89167"/>
      <geometry>
        <mesh filename="package://meshes\part_1.stl"/>
      </geometry>
    </collision>
    <!-- Part servo_wheel_19 -->
    <visual>
      <origin xyz="0.119133 -0.227912 -0.187462" rpy="-1.5708 -1.0472 -1.24992"/>
      <geometry>
        <mesh filename="package://meshes\servo_wheel.stl"/>
      </geometry>
      <material name="servo_wheel_19_material">
        <color rgba="0.647059 0.647059 0.647059 1"/>
      </material>
    </visual>
    <collision>
      <origin xyz="0.119133 -0.227912 -0.187462" rpy="-1.5708 -1.0472 -1.24992"/>
      <geometry>
        <mesh filename="package://meshes\servo_wheel.stl"/>
      </geometry>
    </collision>
    <!-- Part servo_wheel_20 -->
    <visual>
      <origin xyz="0.0655169 -0.245732 -0.187462" rpy="-1.5708 -1.0472 -1.24992"/>
      <geometry>
        <mesh filename="package://meshes\servo_wheel.stl"/>
      </geometry>
      <material name="servo_wheel_20_material">
        <color rgba="0.647059 0.647059 0.647059 1"/>
      </material>
    </visual>
    <collision>
      <origin xyz="0.0655169 -0.245732 -0.187462" rpy="-1.5708 -1.0472 -1.24992"/>
      <geometry>
        <mesh filename="package://meshes\servo_wheel.stl"/>
      </geometry>
    </collision>
    <!-- Part fixed_bracket_10 -->
    <visual>
      <origin xyz="0.103624 -0.270024 -0.233028" rpy="2.22677 -3.8447e-15 -2.82072"/>
      <geometry>
        <mesh filename="package://meshes\fixed_bracket.stl"/>
      </geometry>
      <material name="fixed_bracket_10_material">
        <color rgba="0.647059 0.647059 0.647059 1"/>
      </material>
    </visual>
    <collision>
      <origin xyz="0.103624 -0.270024 -0.233028" rpy="2.22677 -3.8447e-15 -2.82072"/>
      <geometry>
        <mesh filename="package://meshes\fixed_bracket.stl"/>
      </geometry>
    </collision>
    <!-- Part mobile_bracket_11 -->
    <visual>
      <origin xyz="0.0674062 -0.188001 -0.0654202" rpy="-2.61161 -1.5708 0"/>
      <geometry>
        <mesh filename="package://meshes\mobile_bracket.stl"/>
      </geometry>
      <material name="mobile_bracket_11_material">
        <color rgba="0.647059 0.647059 0.647059 1"/>
      </material>
    </visual>
    <collision>
      <origin xyz="0.0674062 -0.188001 -0.0654202" rpy="-2.61161 -1.5708 0"/>
      <geometry>
        <mesh filename="package://meshes\mobile_bracket.stl"/>
      </geometry>
    </collision>
    <!-- Part part_1_11 -->
    <visual>
      <origin xyz="0.089286 -0.235249 -0.0648035" rpy="-1.85132e-16 -1.54453e-15 1.89167"/>
      <geometry>
        <mesh filename="package://meshes\part_1.stl"/>
      </geometry>
      <material name="part_1_11_material">
        <color rgba="0.109804 0.109804 0.105882 1"/>
      </material>
    </visual>
    <collision>
      <origin xyz="0.089286 -0.235249 -0.0648035" rpy="-1.85132e-16 -1.54453e-15 1.89167"/>
      <geometry>
        <mesh filename="package://meshes\part_1.stl"/>
      </geometry>
    </collision>
    <!-- Part servo_wheel_21 -->
    <visual>
      <origin xyz="0.0850993 -0.2182 -0.0368035" rpy="-1.9684e-15 -1.75363e-15 2.10078"/>
      <geometry>
        <mesh filename="package://meshes\servo_wheel.stl"/>
      </geometry>
      <material name="servo_wheel_21_material">
        <color rgba="0.647059 0.647059 0.647059 1"/>
      </material>
    </visual>
    <collision>
      <origin xyz="0.0850993 -0.2182 -0.0368035" rpy="-1.9684e-15 -1.75363e-15 2.10078"/>
      <geometry>
        <mesh filename="package://meshes\servo_wheel.stl"/>
      </geometry>
    </collision>
    <!-- Part servo_wheel_22 -->
    <visual>
      <origin xyz="0.0850993 -0.2182 -0.0933035" rpy="-2.66611e-15 4.20088e-16 2.10078"/>
      <geometry>
        <mesh filename="package://meshes\servo_wheel.stl"/>
      </geometry>
      <material name="servo_wheel_22_material">
        <color rgba="0.647059 0.647059 0.647059 1"/>
      </material>
    </visual>
    <collision>
      <origin xyz="0.0850993 -0.2182 -0.0933035" rpy="-2.66611e-15 4.20088e-16 2.10078"/>
      <geometry>
        <mesh filename="package://meshes\servo_wheel.stl"/>
      </geometry>
    </collision>
    <!-- Part fixed_bracket_11 -->
    <visual>
      <origin xyz="0.103235 -0.272765 -0.0648035" rpy="-0.320876 1.5708 0"/>
      <geometry>
        <mesh filename="package://meshes\fixed_bracket.stl"/>
      </geometry>
      <material name="fixed_bracket_11_material">
        <color rgba="0.647059 0.647059 0.647059 1"/>
      </material>
    </visual>
    <collision>
      <origin xyz="0.103235 -0.272765 -0.0648035" rpy="-0.320876 1.5708 0"/>
      <geometry>
        <mesh filename="package://meshes\fixed_bracket.stl"/>
      </geometry>
    </collision>
    <!-- Part mobile_bracket_12 -->
    <visual>
      <origin xyz="0.103235 -0.272765 -0.0648035" rpy="-3.14159 -1.50422e-16 0.320876"/>
      <geometry>
        <mesh filename="package://meshes\mobile_bracket.stl"/>
      </geometry>
      <material name="mobile_bracket_12_material">
        <color rgba="0.647059 0.647059 0.647059 1"/>
      </material>
    </visual>
    <collision>
      <origin xyz="0.103235 -0.272765 -0.0648035" rpy="-3.14159 -1.50422e-16 0.320876"/>
      <geometry>
        <mesh filename="package://meshes\mobile_bracket.stl"/>
      </geometry>
    </collision>
    <!-- Part part_1_12 -->
    <visual>
      <origin xyz="0.112483 -0.298635 -0.0806612" rpy="-1.5708 -1.0472 -1.24992"/>
      <geometry>
        <mesh filename="package://meshes\part_1.stl"/>
      </geometry>
      <material name="part_1_12_material">
        <color rgba="0.109804 0.109804 0.105882 1"/>
      </material>
    </visual>
    <collision>
      <origin xyz="0.112483 -0.298635 -0.0806612" rpy="-1.5708 -1.0472 -1.24992"/>
      <geometry>
        <mesh filename="package://meshes\part_1.stl"/>
      </geometry>
    </collision>
    <!-- Part servo_wheel_23 -->
    <visual>
      <origin xyz="0.14143 -0.296953 -0.0648035" rpy="1.5708 -1.54824e-15 1.89167"/>
      <geometry>
        <mesh filename="package://meshes\servo_wheel.stl"/>
      </geometry>
      <material name="servo_wheel_23_material">
        <color rgba="0.647059 0.647059 0.647059 1"/>
      </material>
    </visual>
    <collision>
      <origin xyz="0.14143 -0.296953 -0.0648035" rpy="1.5708 -1.54824e-15 1.89167"/>
      <geometry>
        <mesh filename="package://meshes\servo_wheel.stl"/>
      </geometry>
    </collision>
    <!-- Part servo_wheel_24 -->
    <visual>
      <origin xyz="0.0878135 -0.314773 -0.0648035" rpy="1.5708 -1.54824e-15 1.89167"/>
      <geometry>
        <mesh filename="package://meshes\servo_wheel.stl"/>
      </geometry>
      <material name="servo_wheel_24_material">
        <color rgba="0.647059 0.647059 0.647059 1"/>
      </material>
    </visual>
    <collision>
      <origin xyz="0.0878135 -0.314773 -0.0648035" rpy="1.5708 -1.54824e-15 1.89167"/>
      <geometry>
        <mesh filename="package://meshes\servo_wheel.stl"/>
      </geometry>
    </collision>
    <!-- Part fixed_bracket_12 -->
    <visual>
      <origin xyz="0.105791 -0.278501 -0.1146" rpy="1.0472 2.59627e-15 -2.82072"/>
      <geometry>
        <mesh filename="package://meshes\fixed_bracket.stl"/>
      </geometry>
      <material name="fixed_bracket_12_material">
        <color rgba="0.647059 0.647059 0.647059 1"/>
      </material>
    </visual>
    <collision>
      <origin xyz="0.105791 -0.278501 -0.1146" rpy="1.0472 2.59627e-15 -2.82072"/>
      <geometry>
        <mesh filename="package://meshes\fixed_bracket.stl"/>
      </geometry>
    </collision>
    <!-- Part mobile_bracket_13 -->
    <visual>
      <origin xyz="0.15945 0.0955767 -0.172129" rpy="-1.52603 1.26767e-15 2.05254"/>
      <geometry>
        <mesh filename="package://meshes\mobile_bracket.stl"/>
      </geometry>
      <material name="mobile_bracket_13_material">
        <color rgba="0.647059 0.647059 0.647059 1"/>
      </material>
    </visual>
    <collision>
      <origin xyz="0.15945 0.0955767 -0.172129" rpy="-1.52603 1.26767e-15 2.05254"/>
      <geometry>
        <mesh filename="package://meshes\mobile_bracket.stl"/>
      </geometry>
    </collision>
    <!-- Part part_1_13 -->
    <visual>
      <origin xyz="0.15884 0.0959534 -0.224609" rpy="-1.5708 -1.55911 0.481743"/>
      <geometry>
        <mesh filename="package://meshes\part_1.stl"/>
      </geometry>
      <material name="part_1_13_material">
        <color rgba="0.109804 0.109804 0.105882 1"/>
      </material>
    </visual>
    <collision>
      <origin xyz="0.15884 0.0959534 -0.224609" rpy="-1.5708 -1.55911 0.481743"/>
      <geometry>
        <mesh filename="package://meshes\part_1.stl"/>
      </geometry>
    </collision>
    <!-- Part servo_wheel_25 -->
    <visual>
      <origin xyz="0.144803 0.120211 -0.207094" rpy="-1.5708 -1.52603 0.481743"/>
      <geometry>
        <mesh filename="package://meshes\servo_wheel.stl"/>
      </geometry>
      <material name="servo_wheel_25_material">
        <color rgba="0.647059 0.647059 0.647059 1"/>
      </material>
    </visual>
    <collision>
      <origin xyz="0.144803 0.120211 -0.207094" rpy="-1.5708 -1.52603 0.481743"/>
      <geometry>
        <mesh filename="package://meshes\servo_wheel.stl"/>
      </geometry>
    </collision>
    <!-- Part servo_wheel_26 -->
    <visual>
      <origin xyz="0.170981 0.0701411 -0.207094" rpy="-1.5708 -1.52603 0.481743"/>
      <geometry>
        <mesh filename="package://meshes\servo_wheel.stl"/>
      </geometry>
      <material name="servo_wheel_26_material">
        <color rgba="0.647059 0.647059 0.647059 1"/>
      </material>
    </visual>
    <collision>
      <origin xyz="0.170981 0.0701411 -0.207094" rpy="-1.5708 -1.52603 0.481743"/>
      <geometry>
        <mesh filename="package://meshes\servo_wheel.stl"/>
      </geometry>
    </collision>
    <!-- Part fixed_bracket_13 -->
    <visual>
      <origin xyz="0.157181 0.0950862 -0.26459" rpy="1.55911 -8.18693e-16 -1.08905"/>
      <geometry>
        <mesh filename="package://meshes\fixed_bracket.stl"/>
      </geometry>
      <material name="fixed_bracket_13_material">
        <color rgba="0.647059 0.647059 0.647059 1"/>
      </material>
    </visual>
    <collision>
      <origin xyz="0.157181 0.0950862 -0.26459" rpy="1.55911 -8.18693e-16 -1.08905"/>
      <geometry>
        <mesh filename="package://meshes\fixed_bracket.stl"/>
      </geometry>
    </collision>
    <!-- Part mobile_bracket_14 -->
    <visual>
      <origin xyz="0.0660487 0.024674 -0.0654202" rpy="-0.517216 -1.5708 0"/>
      <geometry>
        <mesh filename="package://meshes\mobile_bracket.stl"/>
      </geometry>
      <material name="mobile_bracket_14_material">
        <color rgba="0.647059 0.647059 0.647059 1"/>
      </material>
    </visual>
    <collision>
      <origin xyz="0.0660487 0.024674 -0.0654202" rpy="-0.517216 -1.5708 0"/>
      <geometry>
        <mesh filename="package://meshes\mobile_bracket.stl"/>
      </geometry>
    </collision>
    <!-- Part part_1_14 -->
    <visual>
      <origin xyz="0.0995139 0.0619596 -0.0648035" rpy="1.40657e-15 -5.48026e-15 -2.65985"/>
      <geometry>
        <mesh filename="package://meshes\part_1.stl"/>
      </geometry>
      <material name="part_1_14_material">
        <color rgba="0.109804 0.109804 0.105882 1"/>
      </material>
    </visual>
    <collision>
      <origin xyz="0.0995139 0.0619596 -0.0648035" rpy="1.40657e-15 -5.48026e-15 -2.65985"/>
      <geometry>
        <mesh filename="package://meshes\part_1.stl"/>
      </geometry>
    </collision>
    <!-- Part servo_wheel_27 -->
    <visual>
      <origin xyz="0.0833549 0.055096 -0.0368035" rpy="-6.52759e-16 -9.87498e-16 -2.08801"/>
      <geometry>
        <mesh filename="package://meshes\servo_wheel.stl"/>
      </geometry>
      <material name="servo_wheel_27_material">
        <color rgba="0.647059 0.647059 0.647059 1"/>
      </material>
    </visual>
    <collision>
      <origin xyz="0.0833549 0.055096 -0.0368035" rpy="-6.52759e-16 -9.87498e-16 -2.08801"/>
      <geometry>
        <mesh filename="package://meshes\servo_wheel.stl"/>
      </geometry>
    </collision>
    <!-- Part servo_wheel_28 -->
    <visual>
      <origin xyz="0.0833549 0.055096 -0.0933035" rpy="1.16537e-16 -7.63589e-16 -2.08801"/>
      <geometry>
        <mesh filename="package://meshes\servo_wheel.stl"/>
      </geometry>
      <material name="servo_wheel_28_material">
        <color rgba="0.647059 0.647059 0.647059 1"/>
      </material>
    </visual>
    <collision>
      <origin xyz="0.0833549 0.055096 -0.0933035" rpy="1.16537e-16 -7.63589e-16 -2.08801"/>
      <geometry>
        <mesh filename="package://meshes\servo_wheel.stl"/>
      </geometry>
    </collision>
    <!-- Part fixed_bracket_14 -->
    <visual>
      <origin xyz="0.134311 0.0817372 -0.0648035" rpy="-2.05254 1.5708 0"/>
      <geometry>
        <mesh filename="package://meshes\fixed_bracket.stl"/>
      </geometry>
      <material name="fixed_bracket_14_material">
        <color rgba="0.647059 0.647059 0.647059 1"/>
      </material>
    </visual>
    <collision>
      <origin xyz="0.134311 0.0817372 -0.0648035" rpy="-2.05254 1.5708 0"/>
      <geometry>
        <mesh filename="package://meshes\fixed_bracket.stl"/>
      </geometry>
    </collision>
    <!-- Part mobile_bracket_15 -->
    <visual>
      <origin xyz="0.134311 0.0817372 -0.0648035" rpy="-3.14159 6.52847e-16 2.05254"/>
      <geometry>
        <mesh filename="package://meshes\mobile_bracket.stl"/>
      </geometry>
      <material name="mobile_bracket_15_material">
        <color rgba="0.647059 0.647059 0.647059 1"/>
      </material>
    </visual>
    <collision>
      <origin xyz="0.134311 0.0817372 -0.0648035" rpy="-3.14159 6.52847e-16 2.05254"/>
      <geometry>
        <mesh filename="package://meshes\mobile_bracket.stl"/>
      </geometry>
    </collision>
    <!-- Part part_1_15 -->
    <visual>
      <origin xyz="0.165591 0.0987872 -0.0823488" rpy="-1.5708 -1.52603 0.481743"/>
      <geometry>
        <mesh filename="package://meshes\part_1.stl"/>
      </geometry>
      <material name="part_1_15_material">
        <color rgba="0.109804 0.109804 0.105882 1"/>
      </material>
    </visual>
    <collision>
      <origin xyz="0.165591 0.0987872 -0.0823488" rpy="-1.5708 -1.52603 0.481743"/>
      <geometry>
        <mesh filename="package://meshes\part_1.stl"/>
      </geometry>
    </collision>
    <!-- Part servo_wheel_29 -->
    <visual>
      <origin xyz="0.152069 0.123313 -0.0648035" rpy="1.5708 -5.52761e-15 -2.65985"/>
      <geometry>
        <mesh filename="package://meshes\servo_wheel.stl"/>
      </geometry>
      <material name="servo_wheel_29_material">
        <color rgba="0.647059 0.647059 0.647059 1"/>
      </material>
    </visual>
    <collision>
      <origin xyz="0.152069 0.123313 -0.0648035" rpy="1.5708 -5.52761e-15 -2.65985"/>
      <geometry>
        <mesh filename="package://meshes\servo_wheel.stl"/>
      </geometry>
    </collision>
    <!-- Part servo_wheel_30 -->
    <visual>
      <origin xyz="0.178246 0.0732437 -0.0648035" rpy="1.5708 -5.52761e-15 -2.65985"/>
      <geometry>
        <mesh filename="package://meshes\servo_wheel.stl"/>
      </geometry>
      <material name="servo_wheel_30_material">
        <color rgba="0.647059 0.647059 0.647059 1"/>
      </material>
    </visual>
    <collision>
      <origin xyz="0.178246 0.0732437 -0.0648035" rpy="1.5708 -5.52761e-15 -2.65985"/>
      <geometry>
        <mesh filename="package://meshes\servo_wheel.stl"/>
      </geometry>
    </collision>
    <!-- Part fixed_bracket_15 -->
    <visual>
      <origin xyz="0.162761 0.0973077 -0.122246" rpy="1.52603 -2.95012e-16 -1.08905"/>
      <geometry>
        <mesh filename="package://meshes\fixed_bracket.stl"/>
      </geometry>
      <material name="fixed_bracket_15_material">
        <color rgba="0.647059 0.647059 0.647059 1"/>
      </material>
    </visual>
    <collision>
      <origin xyz="0.162761 0.0973077 -0.122246" rpy="1.52603 -2.95012e-16 -1.08905"/>
      <geometry>
        <mesh filename="package://meshes\fixed_bracket.stl"/>
      </geometry>
    </collision>
    <!-- Part mobile_bracket_16 -->
    <visual>
      <origin xyz="-0.130511 -0.334947 -0.165791" rpy="-1.93488 1.41659e-15 -0.468089"/>
      <geometry>
        <mesh filename="package://meshes\mobile_bracket.stl"/>
      </geometry>
      <material name="mobile_bracket_16_material">
        <color rgba="0.647059 0.647059 0.647059 1"/>
      </material>
    </visual>
    <collision>
      <origin xyz="-0.130511 -0.334947 -0.165791" rpy="-1.93488 1.41659e-15 -0.468089"/>
      <geometry>
        <mesh filename="package://meshes\mobile_bracket.stl"/>
      </geometry>
    </collision>
    <!-- Part part_1_16 -->
    <visual>
      <origin xyz="-0.139151 -0.353403 -0.214172" rpy="1.5708 -1.18379 1.10271"/>
      <geometry>
        <mesh filename="package://meshes\part_1.stl"/>
      </geometry>
      <material name="part_1_16_material">
        <color rgba="0.109804 0.109804 0.105882 1"/>
      </material>
    </visual>
    <collision>
      <origin xyz="-0.139151 -0.353403 -0.214172" rpy="1.5708 -1.18379 1.10271"/>
      <geometry>
        <mesh filename="package://meshes\part_1.stl"/>
      </geometry>
    </collision>
    <!-- Part servo_wheel_31 -->
    <visual>
      <origin xyz="-0.110596 -0.358981 -0.198497" rpy="1.5708 -1.20671 1.10271"/>
      <geometry>
        <mesh filename="package://meshes\servo_wheel.stl"/>
      </geometry>
      <material name="servo_wheel_31_material">
        <color rgba="0.647059 0.647059 0.647059 1"/>
      </material>
    </visual>
    <collision>
      <origin xyz="-0.110596 -0.358981 -0.198497" rpy="1.5708 -1.20671 1.10271"/>
      <geometry>
        <mesh filename="package://meshes\servo_wheel.stl"/>
      </geometry>
    </collision>
    <!-- Part servo_wheel_32 -->
    <visual>
      <origin xyz="-0.161018 -0.333489 -0.198497" rpy="1.5708 -1.20671 1.10271"/>
      <geometry>
        <mesh filename="package://meshes\servo_wheel.stl"/>
      </geometry>
      <material name="servo_wheel_32_material">
        <color rgba="0.647059 0.647059 0.647059 1"/>
      </material>
    </visual>
    <collision>
      <origin xyz="-0.161018 -0.333489 -0.198497" rpy="1.5708 -1.20671 1.10271"/>
      <geometry>
        <mesh filename="package://meshes\servo_wheel.stl"/>
      </geometry>
    </collision>
    <!-- Part fixed_bracket_16 -->
    <visual>
      <origin xyz="-0.145375 -0.365715 -0.251744" rpy="1.95781 -3.32819e-15 2.6735"/>
      <geometry>
        <mesh filename="package://meshes\fixed_bracket.stl"/>
      </geometry>
      <material name="fixed_bracket_16_material">
        <color rgba="0.647059 0.647059 0.647059 1"/>
      </material>
    </visual>
    <collision>
      <origin xyz="-0.145375 -0.365715 -0.251744" rpy="1.95781 -3.32819e-15 2.6735"/>
      <geometry>
        <mesh filename="package://meshes\fixed_bracket.stl"/>
      </geometry>
    </collision>
    <!-- Part mobile_bracket_17 -->
    <visual>
      <origin xyz="-0.0553819 -0.188785 -0.0654202" rpy="2.62438 -1.5708 0"/>
      <geometry>
        <mesh filename="package://meshes\mobile_bracket.stl"/>
      </geometry>
      <material name="mobile_bracket_17_material">
        <color rgba="0.647059 0.647059 0.647059 1"/>
      </material>
    </visual>
    <collision>
      <origin xyz="-0.0553819 -0.188785 -0.0654202" rpy="2.62438 -1.5708 0"/>
      <geometry>
        <mesh filename="package://meshes\mobile_bracket.stl"/>
      </geometry>
    </collision>
    <!-- Part part_1_17 -->
    <visual>
      <origin xyz="-0.0818371 -0.234191 -0.0648035" rpy="1.74073e-15 -7.18042e-16 1.10271"/>
      <geometry>
        <mesh filename="package://meshes\part_1.stl"/>
      </geometry>
      <material name="part_1_17_material">
        <color rgba="0.109804 0.109804 0.105882 1"/>
      </material>
    </visual>
    <collision>
      <origin xyz="-0.0818371 -0.234191 -0.0648035" rpy="1.74073e-15 -7.18042e-16 1.10271"/>
      <geometry>
        <mesh filename="package://meshes\part_1.stl"/>
      </geometry>
    </collision>
    <!-- Part servo_wheel_33 -->
    <visual>
      <origin xyz="-0.0726881 -0.219207 -0.0368035" rpy="2.63271e-15 3.95878e-16 1.05358"/>
      <geometry>
        <mesh filename="package://meshes\servo_wheel.stl"/>
      </geometry>
      <material name="servo_wheel_33_material">
        <color rgba="0.647059 0.647059 0.647059 1"/>
      </material>
    </visual>
    <collision>
      <origin xyz="-0.0726881 -0.219207 -0.0368035" rpy="2.63271e-15 3.95878e-16 1.05358"/>
      <geometry>
        <mesh filename="package://meshes\servo_wheel.stl"/>
      </geometry>
    </collision>
    <!-- Part servo_wheel_34 -->
    <visual>
      <origin xyz="-0.0726881 -0.219207 -0.0933035" rpy="3.12703e-15 2.58894e-15 1.05358"/>
      <geometry>
        <mesh filename="package://meshes\servo_wheel.stl"/>
      </geometry>
      <material name="servo_wheel_34_material">
        <color rgba="0.647059 0.647059 0.647059 1"/>
      </material>
    </visual>
    <collision>
      <origin xyz="-0.0726881 -0.219207 -0.0933035" rpy="3.12703e-15 2.58894e-15 1.05358"/>
      <geometry>
        <mesh filename="package://meshes\servo_wheel.stl"/>
      </geometry>
    </collision>
    <!-- Part fixed_bracket_17 -->
    <visual>
      <origin xyz="-0.098631 -0.270522 -0.0648035" rpy="0.468089 1.5708 0"/>
      <geometry>
        <mesh filename="package://meshes\fixed_bracket.stl"/>
      </geometry>
      <material name="fixed_bracket_17_material">
        <color rgba="0.647059 0.647059 0.647059 1"/>
      </material>
    </visual>
    <collision>
      <origin xyz="-0.098631 -0.270522 -0.0648035" rpy="0.468089 1.5708 0"/>
      <geometry>
        <mesh filename="package://meshes\fixed_bracket.stl"/>
      </geometry>
    </collision>
    <!-- Part mobile_bracket_18 -->
    <visual>
      <origin xyz="-0.098631 -0.270522 -0.0648035" rpy="-3.14159 1.40841e-15 -0.468089"/>
      <geometry>
        <mesh filename="package://meshes\mobile_bracket.stl"/>
      </geometry>
      <material name="mobile_bracket_18_material">
        <color rgba="0.647059 0.647059 0.647059 1"/>
      </material>
    </visual>
    <collision>
      <origin xyz="-0.098631 -0.270522 -0.0648035" rpy="-3.14159 1.40841e-15 -0.468089"/>
      <geometry>
        <mesh filename="package://meshes\mobile_bracket.stl"/>
      </geometry>
    </collision>
    <!-- Part part_1_18 -->
    <visual>
      <origin xyz="-0.117276 -0.308768 -0.0806563" rpy="1.5708 -1.20671 1.10271"/>
      <geometry>
        <mesh filename="package://meshes\part_1.stl"/>
      </geometry>
      <material name="part_1_18_material">
        <color rgba="0.109804 0.109804 0.105882 1"/>
      </material>
    </visual>
    <collision>
      <origin xyz="-0.117276 -0.308768 -0.0806563" rpy="1.5708 -1.20671 1.10271"/>
      <geometry>
        <mesh filename="package://meshes\part_1.stl"/>
      </geometry>
    </collision>
    <!-- Part servo_wheel_35 -->
    <visual>
      <origin xyz="-0.0888839 -0.314668 -0.0648035" rpy="1.5708 -9.7761e-16 1.10271"/>
      <geometry>
        <mesh filename="package://meshes\servo_wheel.stl"/>
      </geometry>
      <material name="servo_wheel_35_material">
        <color rgba="0.647059 0.647059 0.647059 1"/>
      </material>
    </visual>
    <collision>
      <origin xyz="-0.0888839 -0.314668 -0.0648035" rpy="1.5708 -9.7761e-16 1.10271"/>
      <geometry>
        <mesh filename="package://meshes\servo_wheel.stl"/>
      </geometry>
    </collision>
    <!-- Part servo_wheel_36 -->
    <visual>
      <origin xyz="-0.139306 -0.289176 -0.0648035" rpy="1.5708 -9.7761e-16 1.10271"/>
      <geometry>
        <mesh filename="package://meshes\servo_wheel.stl"/>
      </geometry>
      <material name="servo_wheel_36_material">
        <color rgba="0.647059 0.647059 0.647059 1"/>
      </material>
    </visual>
    <collision>
      <origin xyz="-0.139306 -0.289176 -0.0648035" rpy="1.5708 -9.7761e-16 1.10271"/>
      <geometry>
        <mesh filename="package://meshes\servo_wheel.stl"/>
      </geometry>
    </collision>
    <!-- Part fixed_bracket_18 -->
    <visual>
      <origin xyz="-0.12311 -0.320308 -0.118534" rpy="1.93488 7.23929e-16 2.6735"/>
      <geometry>
        <mesh filename="package://meshes\fixed_bracket.stl"/>
      </geometry>
      <material name="fixed_bracket_18_material">
        <color rgba="0.647059 0.647059 0.647059 1"/>
      </material>
    </visual>
    <collision>
      <origin xyz="-0.12311 -0.320308 -0.118534" rpy="1.93488 7.23929e-16 2.6735"/>
      <geometry>
        <mesh filename="package://meshes\fixed_bracket.stl"/>
      </geometry>
    </collision>
  </link>
</robot>
